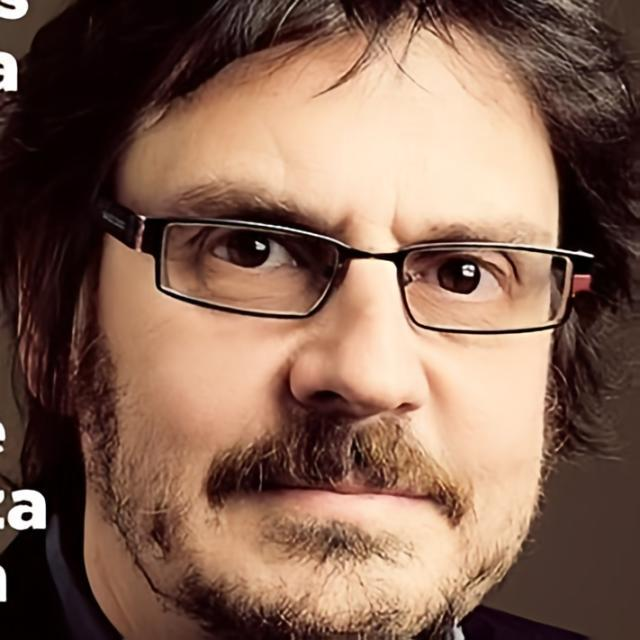anger: (128, 73, 560, 617)
